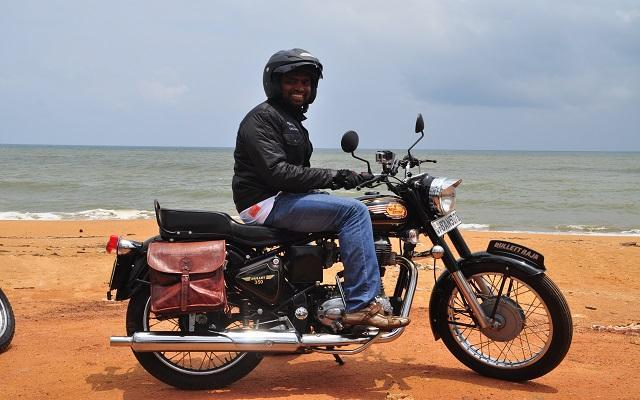motorbike: (103, 113, 572, 391)
